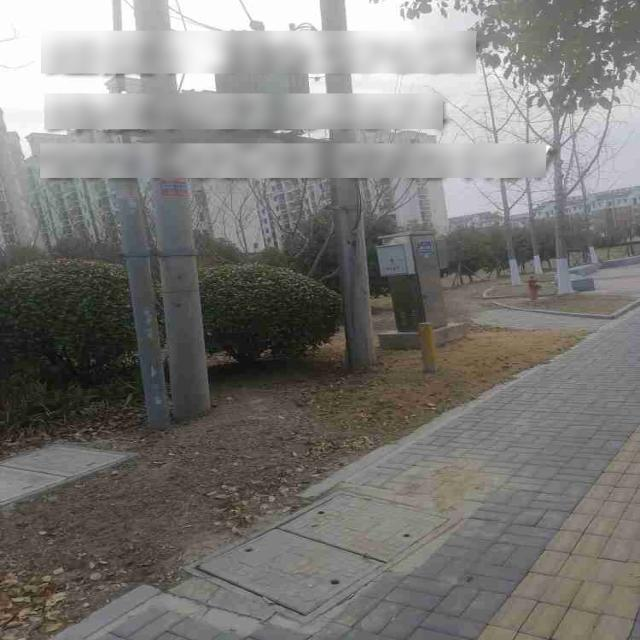Good: (168, 487, 470, 621), (0, 417, 154, 519)
